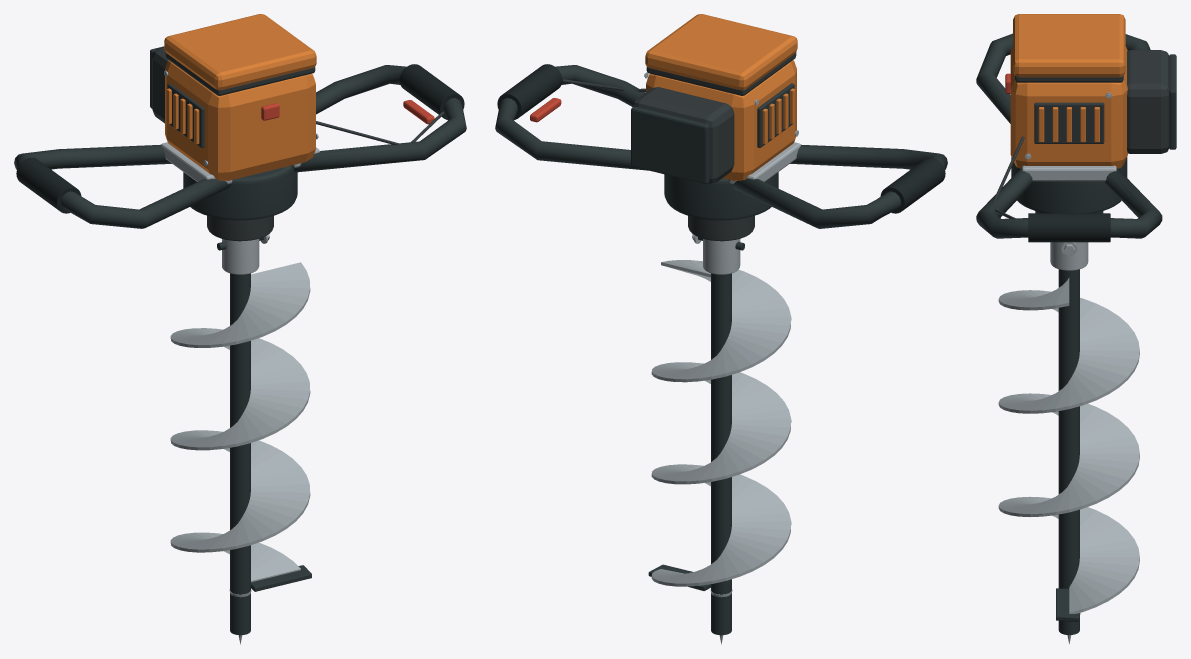
Rendered from city-two-handle-earth-auger.glb.
The picture shows the model from 3 angles, left to right: view 1: azimuth 30°, elevation 25°; view 2: azimuth 150°, elevation 25°; view 3: azimuth 270°, elevation 25°; orthographic projection.
Visible parts, largest first — view 1: Assembly | Graphite painted metal, Assembly | Satin zinc steel, Assembly | Warm orange polymer, Assembly | Dark molded polymer, Assembly | Textured charcoal rubber, Assembly | Control red polymer; view 2: Assembly | Graphite painted metal, Assembly | Satin zinc steel, Assembly | Warm orange polymer, Assembly | Dark molded polymer, Assembly | Textured charcoal rubber; view 3: Assembly | Satin zinc steel, Assembly | Graphite painted metal, Assembly | Warm orange polymer, Assembly | Dark molded polymer, Assembly | Textured charcoal rubber.
Boxes of the visible parts, x1,y1,x2,y2 form: Assembly | Graphite painted metal: (14, 46, 466, 635); Assembly | Satin zinc steel: (161, 70, 319, 644); Assembly | Warm orange polymer: (164, 14, 316, 180); Assembly | Dark molded polymer: (152, 47, 444, 241); Assembly | Textured charcoal rubber: (16, 64, 464, 213); Assembly | Control red polymer: (261, 100, 434, 124); Assembly | Graphite painted metal: (495, 65, 947, 635); Assembly | Satin zinc steel: (644, 72, 800, 644); Assembly | Warm orange polymer: (645, 14, 797, 180); Assembly | Dark molded polymer: (562, 52, 796, 241); Assembly | Textured charcoal rubber: (497, 64, 945, 213); Assembly | Satin zinc steel: (998, 92, 1139, 643); Assembly | Graphite painted metal: (976, 33, 1176, 634); Assembly | Warm orange polymer: (1010, 14, 1127, 168); Assembly | Dark molded polymer: (993, 50, 1169, 218); Assembly | Textured charcoal rubber: (1028, 213, 1110, 242).
Size of the model in its own units: 0.856 by 1.21 by 0.3603.
